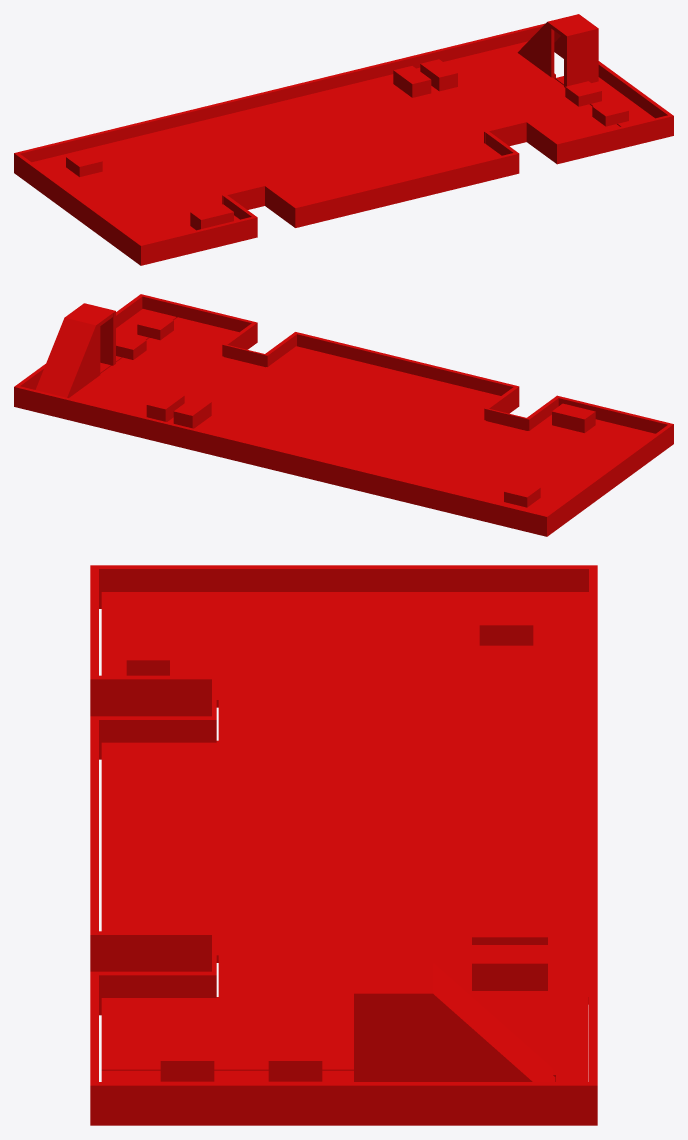
The model's file is SM_Bld_HighRise_Large_01_Interior_Roof_01_Collision.fbx.
3 views of the same model, one above another, from view 1: azimuth 30°, elevation 25°; view 2: azimuth 150°, elevation 25°; view 3: azimuth 270°, elevation 25° (orthographic). The views are drawn at different scales.
Visible parts, largest first — view 1: SM_Bld_HighRise_Large_01_Interior_Roof_01_Collision; view 2: SM_Bld_HighRise_Large_01_Interior_Roof_01_Collision; view 3: SM_Bld_HighRise_Large_01_Interior_Roof_01_Collision.
Part boxes in pixels (box(x1,y1,x2,y2)): SM_Bld_HighRise_Large_01_Interior_Roof_01_Collision: box(14, 14, 673, 265); SM_Bld_HighRise_Large_01_Interior_Roof_01_Collision: box(14, 294, 673, 536); SM_Bld_HighRise_Large_01_Interior_Roof_01_Collision: box(90, 565, 597, 1125).
Bounding box in the file's own units: 2628 × 289 × 1083.
